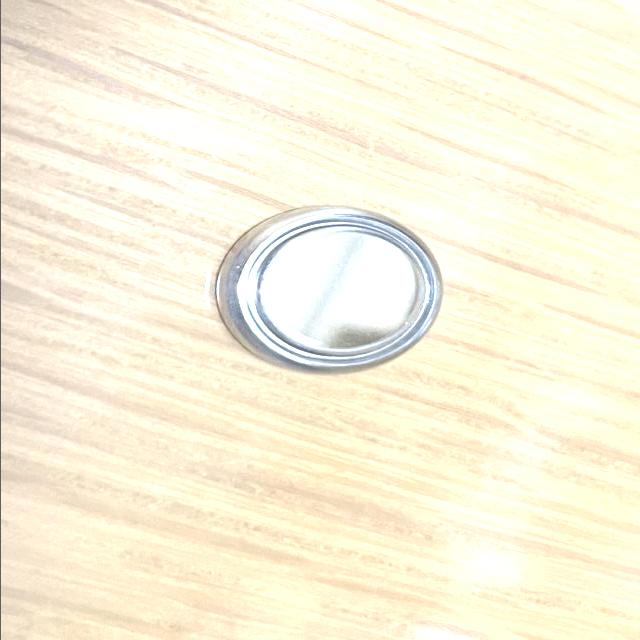COIN: (215, 204, 442, 372)
